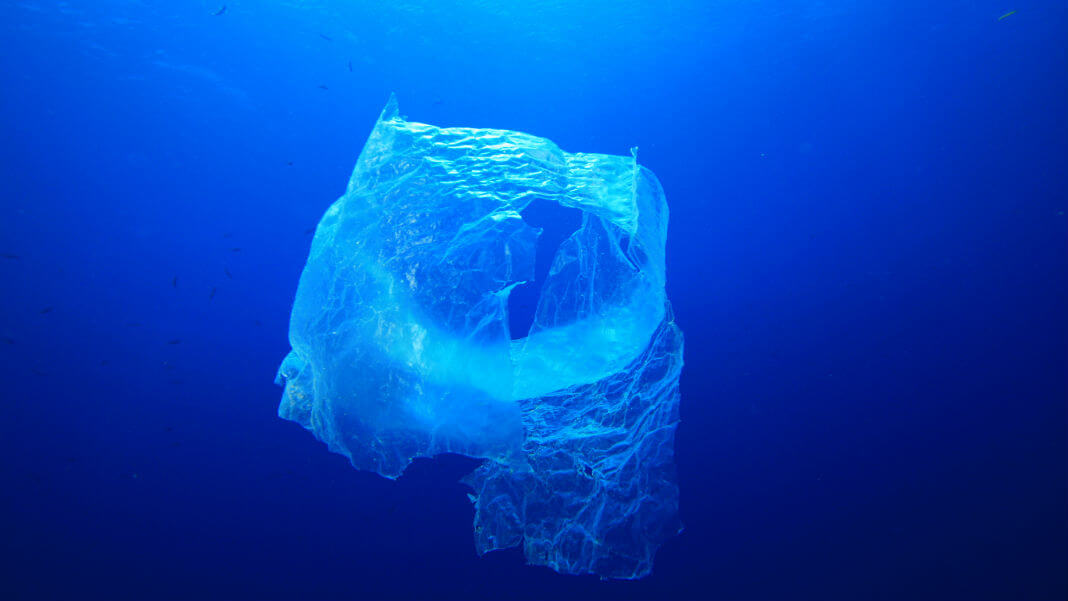litter: (203, 62, 765, 601)
